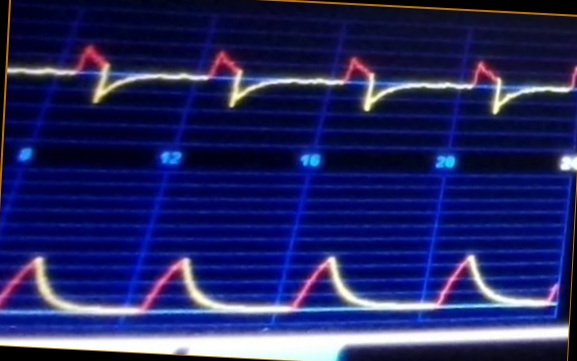Accumulation Flow: (12, 25, 577, 138)
Volume: (1, 228, 560, 325)
